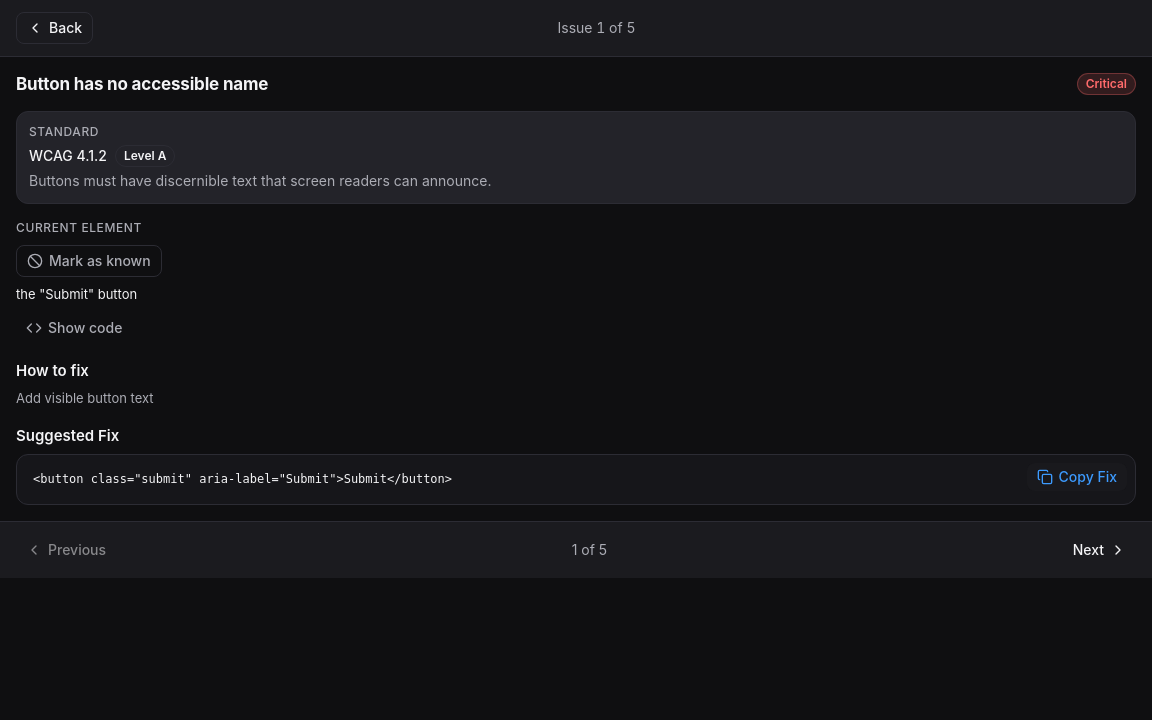
Scenario: IssueDetail › closes the ignore modal via its Cancel control
Click the button "Mark as known" at (89, 261), box [16,245,162,277]
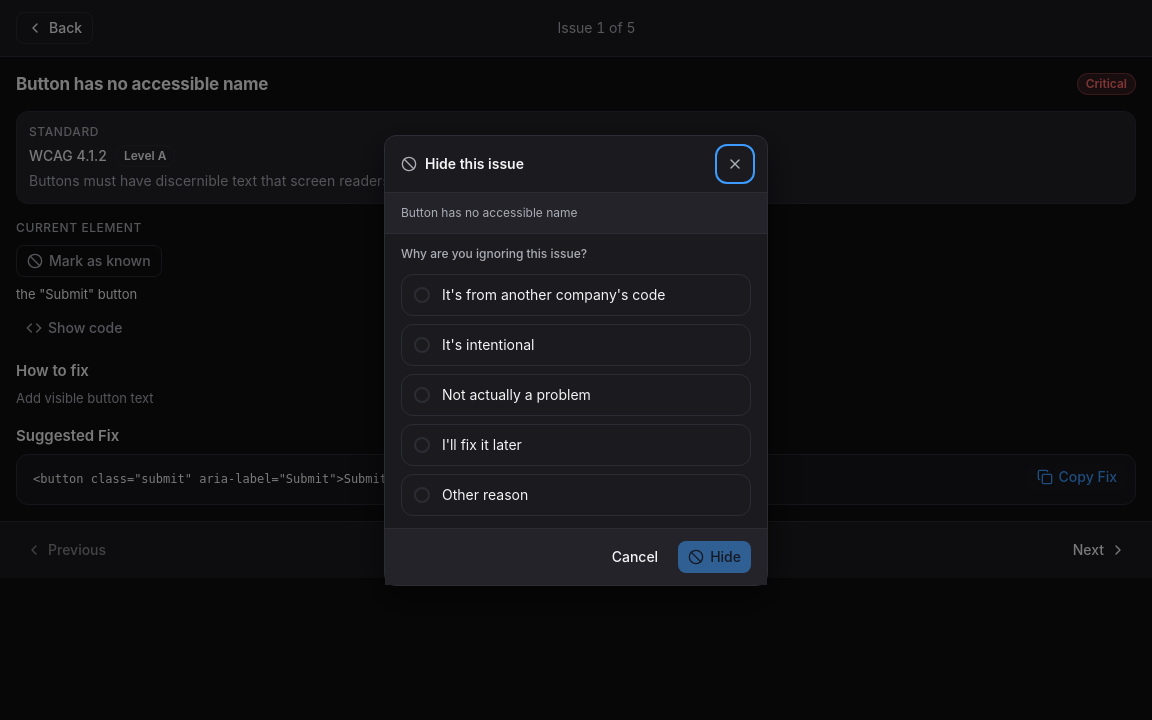
Click the button "Cancel" at (635, 556), box [600,540,670,572]
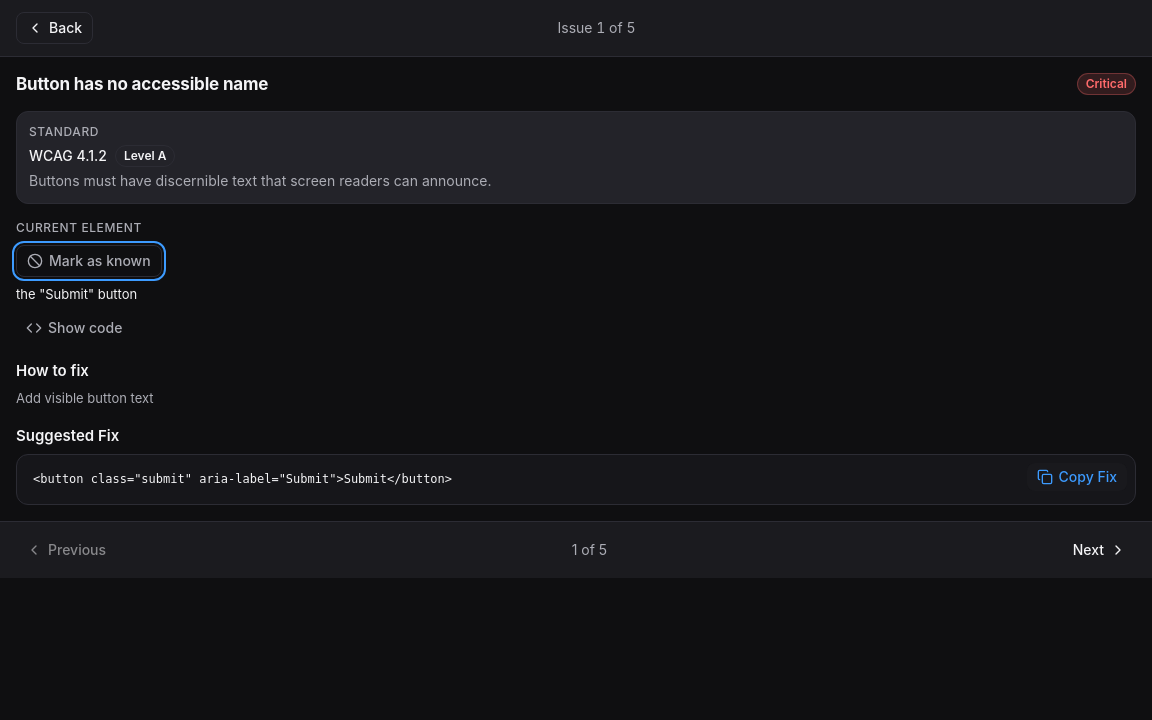
Expected: the dialog is gone
